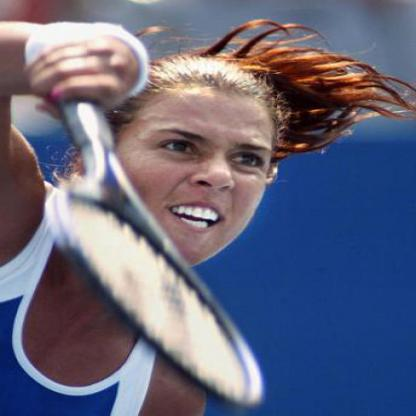face: (104, 65, 280, 268)
